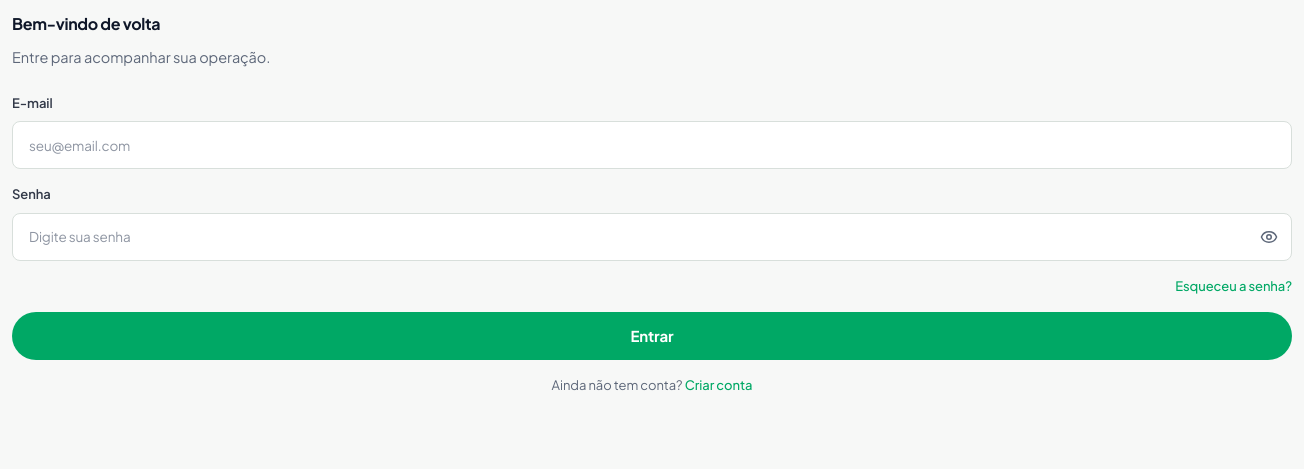
Test case: tela de login › conta bloqueada e queda de rede mostram a mensagem certa, sem oferecer recuperar senha
Type "a@b.com" into the field with id "login-email" at (652, 145), box [12, 121, 1292, 169]
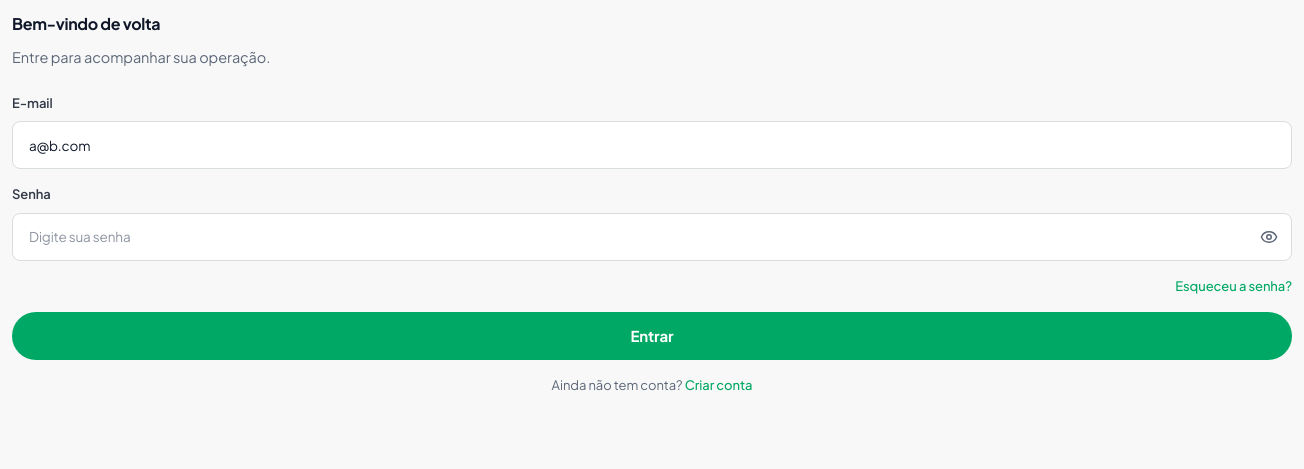
Type "x" into the password field with id "login-password" at (652, 237), box [12, 213, 1292, 261]
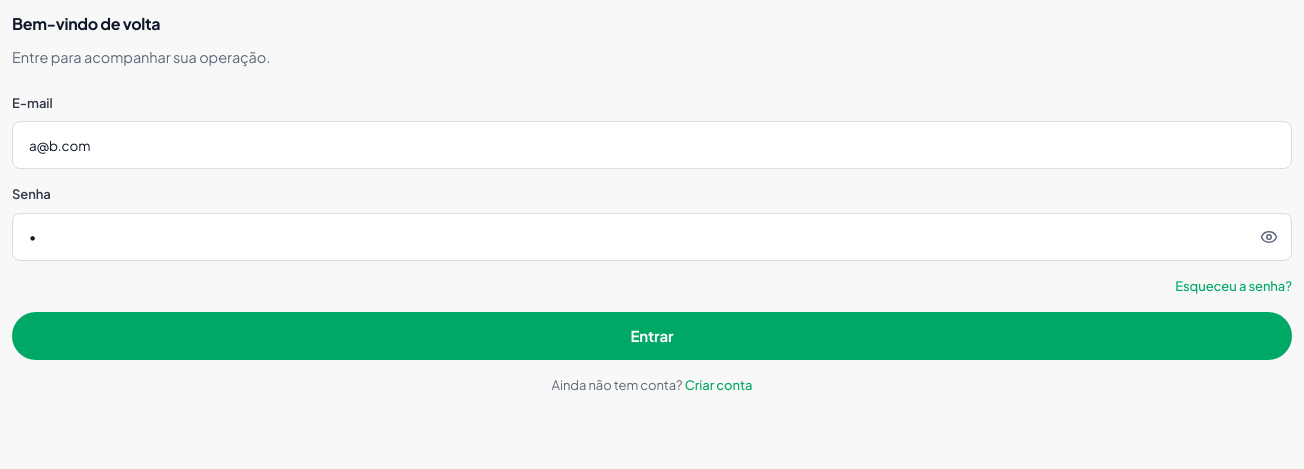
Click the button "Entrar" at (652, 336), box [12, 312, 1292, 360]
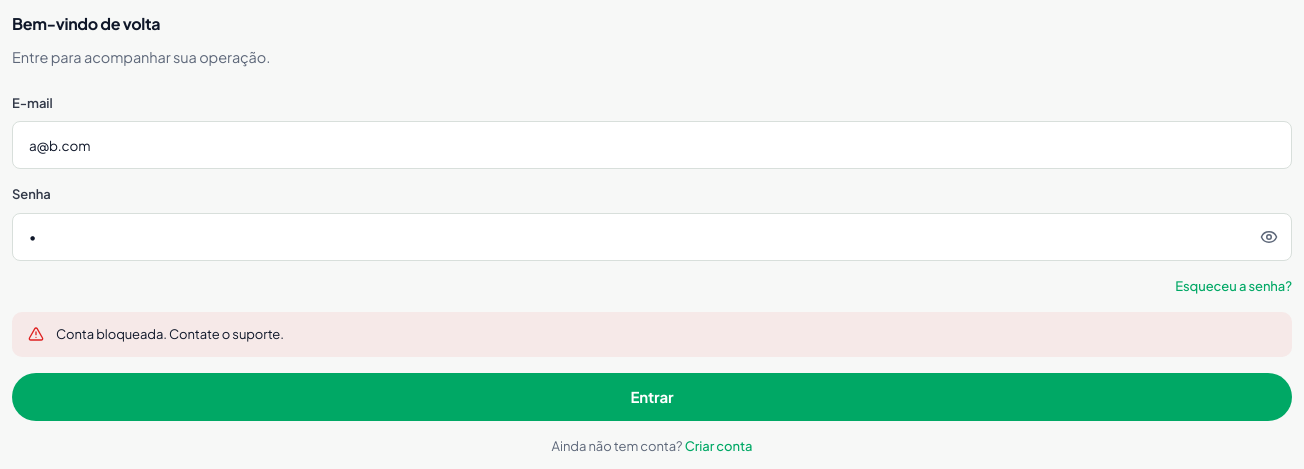
Expected: the text "Conta bloqueada. Contate o suporte." is shown, [56, 326, 284, 342]
